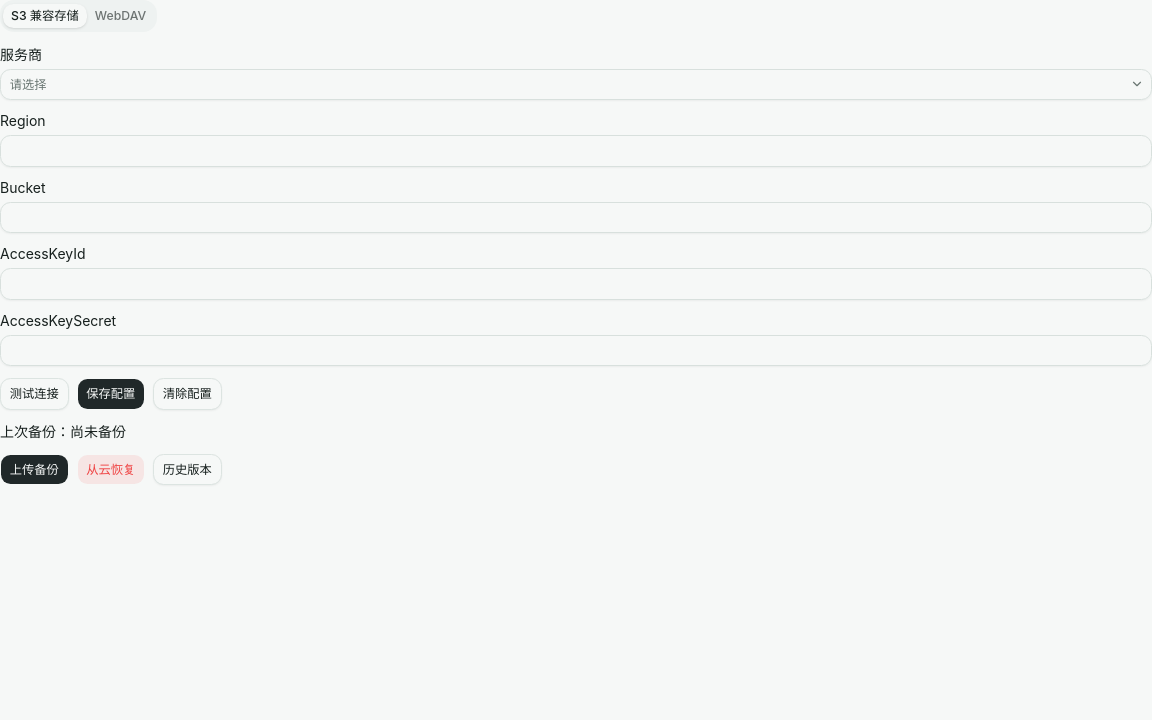
Test: CloudBackupSection › 点击「从云恢复」→ 下载解析成功 → 弹破坏性确认 Modal（未勾选时确认禁用）
Check: the button "上传备份" is shown, box [0,454,68,485]
What coordinates should you click on to do the following:
click the button "从云恢复"
I would click on:
 (111, 469)
Its box is [76,454,145,485].
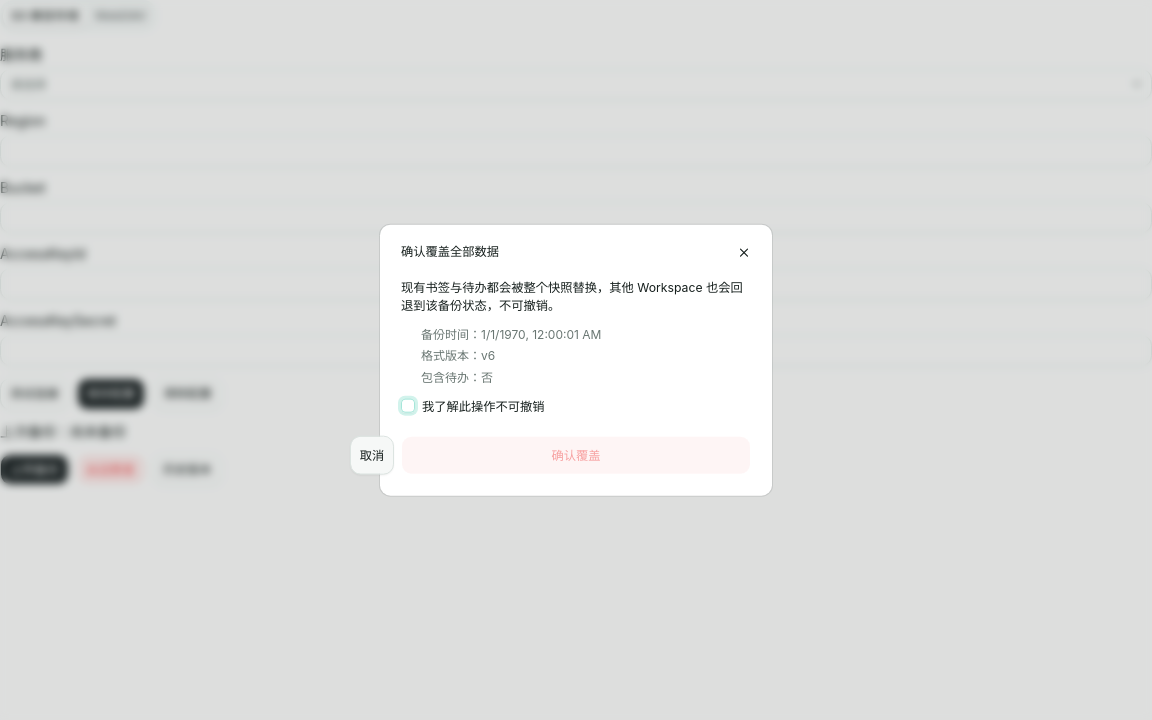
Check: the heading "确认覆盖全部数据" is shown, box [401,244,499,259]
Check: the button "确认覆盖" is disabled, box [401,436,751,474]
What coordinates should you click on to do the following:
click the checkbox "我了解此操作不可撤销"
I would click on:
 (473, 406)
Its box is [401,398,544,413].
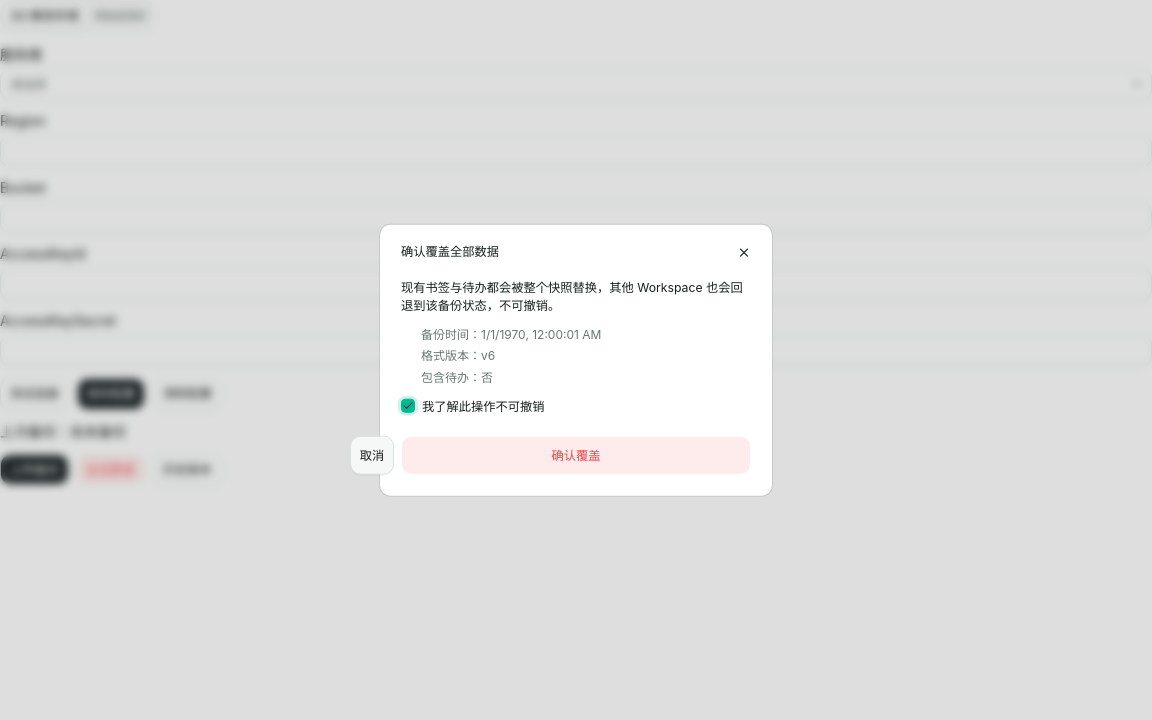
Check: the button "确认覆盖" is enabled, box [401,436,751,474]
